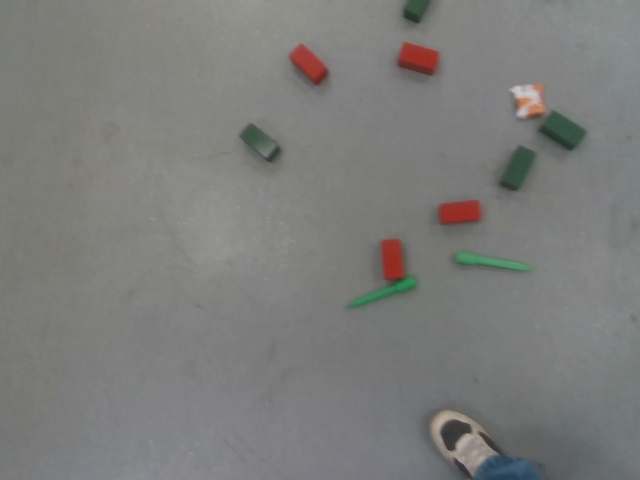Probe: (342, 275, 422, 310), (451, 250, 536, 273)
